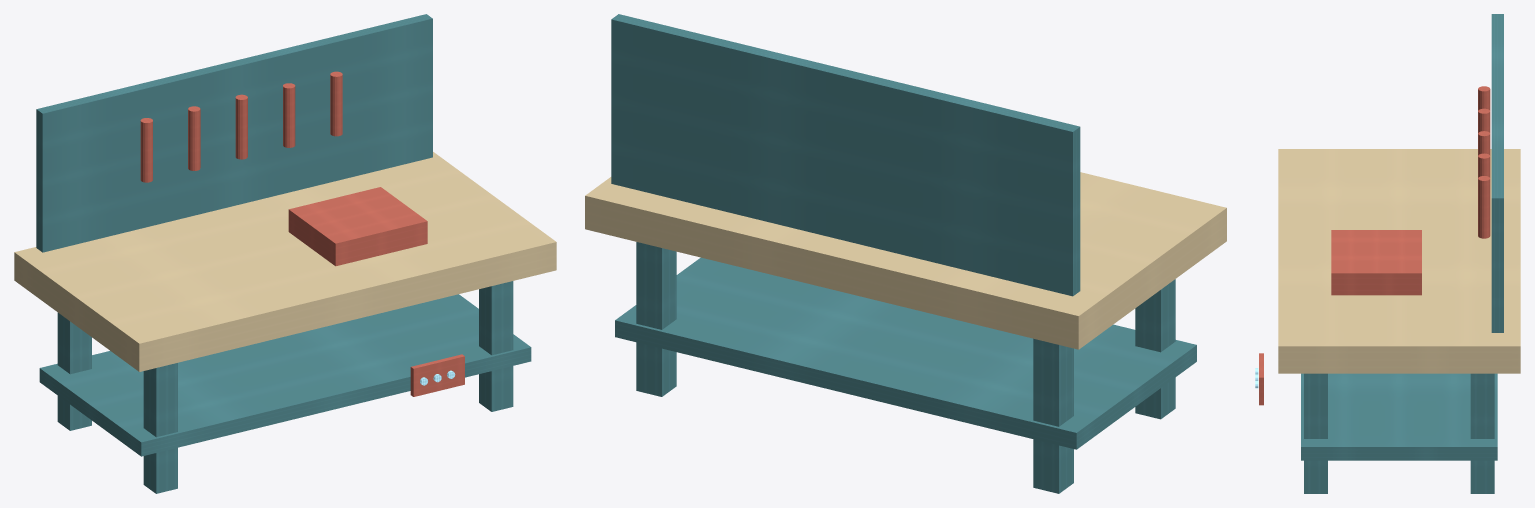
The model's file is atlas100-s072-a06.glb.
3 renders of one model, left to right at view 1: azimuth 30°, elevation 25°; view 2: azimuth 150°, elevation 25°; view 3: azimuth 270°, elevation 25°, orthographic. The views are drawn at different scales.
Visible parts, largest first — view 1: atlas100-s072-a06:part-004, atlas100-s072-a06:part-006, atlas100-s072-a06:part-005, atlas100-s072-a06:part-012, atlas100-s072-a06:part-003, atlas100-s072-a06:part-001, atlas100-s072-a06:part-000, atlas100-s072-a06:part-013, atlas100-s072-a06:part-011, atlas100-s072-a06:part-009, atlas100-s072-a06:part-010, atlas100-s072-a06:part-007 (+1 smaller); view 2: atlas100-s072-a06:part-006, atlas100-s072-a06:part-005, atlas100-s072-a06:part-004, atlas100-s072-a06:part-000, atlas100-s072-a06:part-002, atlas100-s072-a06:part-001; view 3: atlas100-s072-a06:part-004, atlas100-s072-a06:part-005, atlas100-s072-a06:part-012, atlas100-s072-a06:part-006, atlas100-s072-a06:part-002, atlas100-s072-a06:part-003, atlas100-s072-a06:part-011, atlas100-s072-a06:part-008, atlas100-s072-a06:part-009, atlas100-s072-a06:part-010.
Part boxes in pixels (x1,y1,x2,y2): atlas100-s072-a06:part-004: [14, 152, 556, 371]; atlas100-s072-a06:part-006: [36, 14, 432, 252]; atlas100-s072-a06:part-005: [39, 294, 531, 456]; atlas100-s072-a06:part-012: [288, 187, 427, 266]; atlas100-s072-a06:part-003: [479, 281, 513, 411]; atlas100-s072-a06:part-001: [143, 363, 177, 493]; atlas100-s072-a06:part-000: [57, 312, 91, 430]; atlas100-s072-a06:part-013: [410, 354, 464, 396]; atlas100-s072-a06:part-011: [330, 71, 342, 136]; atlas100-s072-a06:part-009: [235, 94, 247, 159]; atlas100-s072-a06:part-010: [283, 83, 295, 147]; atlas100-s072-a06:part-007: [140, 118, 152, 182]; atlas100-s072-a06:part-006: [611, 14, 1080, 296]; atlas100-s072-a06:part-005: [615, 257, 1196, 449]; atlas100-s072-a06:part-004: [585, 172, 1226, 349]; atlas100-s072-a06:part-000: [1033, 338, 1073, 493]; atlas100-s072-a06:part-002: [636, 242, 676, 396]; atlas100-s072-a06:part-001: [1135, 279, 1175, 419]; atlas100-s072-a06:part-004: [1278, 149, 1520, 373]; atlas100-s072-a06:part-005: [1301, 373, 1497, 460]; atlas100-s072-a06:part-012: [1331, 230, 1421, 295]; atlas100-s072-a06:part-006: [1491, 14, 1503, 332]; atlas100-s072-a06:part-002: [1470, 373, 1494, 493]; atlas100-s072-a06:part-003: [1304, 373, 1327, 493]; atlas100-s072-a06:part-011: [1478, 176, 1490, 238]; atlas100-s072-a06:part-008: [1478, 108, 1490, 133]; atlas100-s072-a06:part-009: [1478, 131, 1490, 155]; atlas100-s072-a06:part-010: [1478, 153, 1490, 177].
Size of the model in its own units: 3.08 by 2.21 by 1.75.
Materials: 4 (4 with a texture image).
